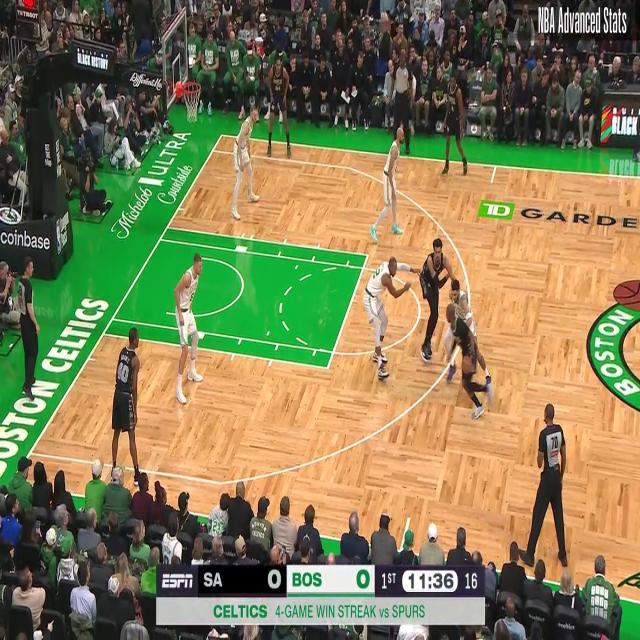ball: (461, 350, 474, 382)
player: (362, 254, 420, 382), (446, 274, 494, 406), (442, 300, 493, 422), (110, 326, 146, 492), (417, 236, 457, 364), (172, 251, 205, 406), (368, 124, 406, 245), (229, 98, 261, 222), (264, 50, 294, 160), (444, 68, 471, 180)
